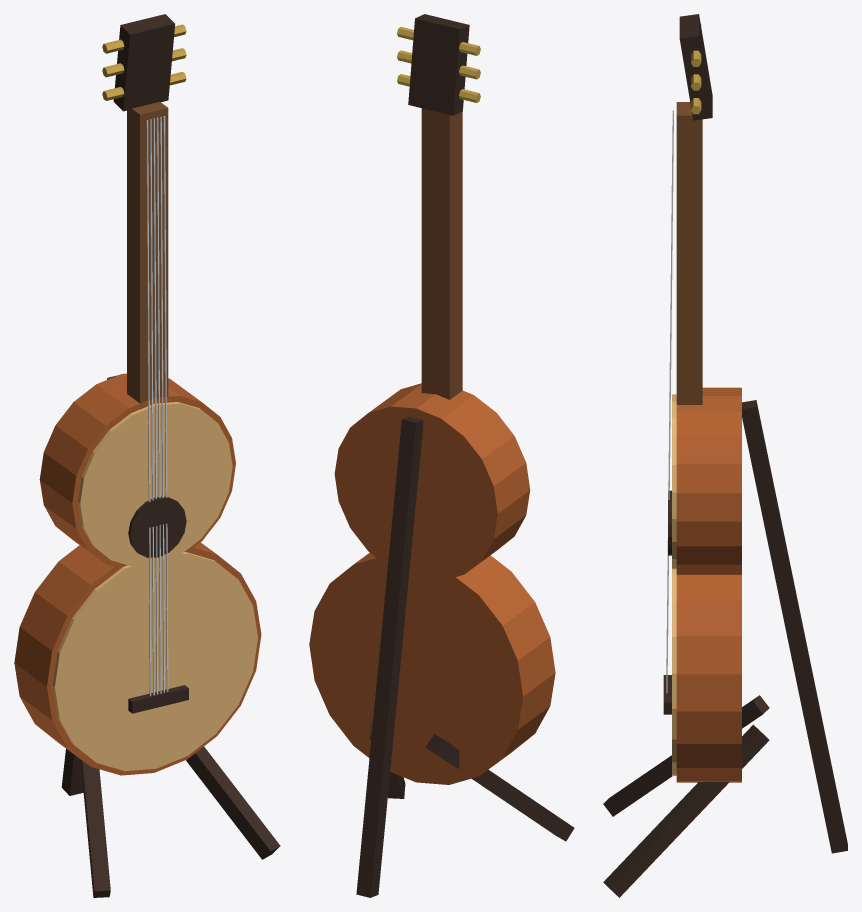
File: home_guitar_v01.glb
3 views of the same model, side by side, from view 1: azimuth 30°, elevation 25°; view 2: azimuth 150°, elevation 25°; view 3: azimuth 270°, elevation 25° (orthographic).
Visible parts, largest first — view 1: guitar; view 2: guitar; view 3: guitar.
Part boxes in pixels (x1,y1,x2,y2): guitar: (14,14,280,897); guitar: (309,14,574,897); guitar: (603,14,847,897).
Bounding box in the file's own units: 0.38 × 1.4 × 0.3748.
